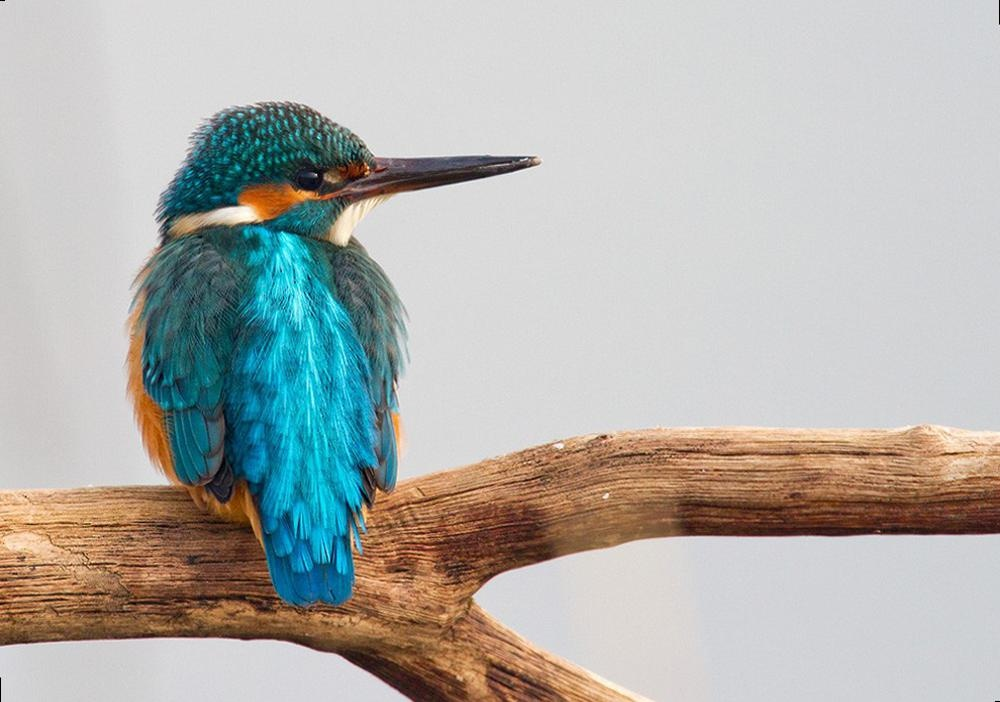kingfisher: (94, 85, 543, 596)
